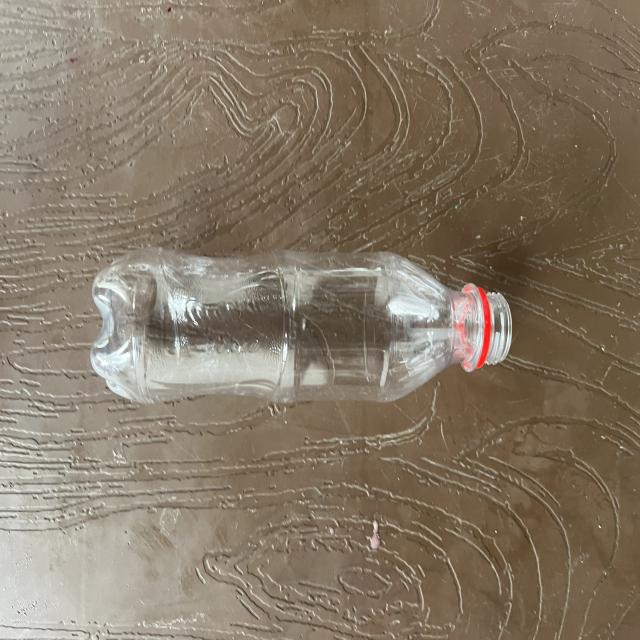PET_With_Cap: (88, 252, 514, 409)
